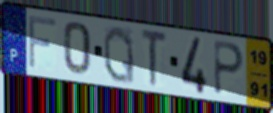0: (62, 20, 93, 78)
4: (180, 35, 210, 96)
F: (27, 13, 58, 71)
P: (212, 38, 246, 98)
Q: (102, 24, 137, 86)
T: (140, 28, 168, 90)
